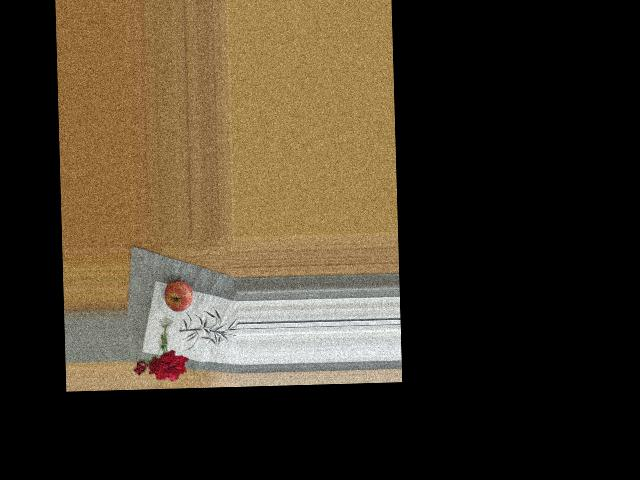apple: (160, 277, 194, 313)
